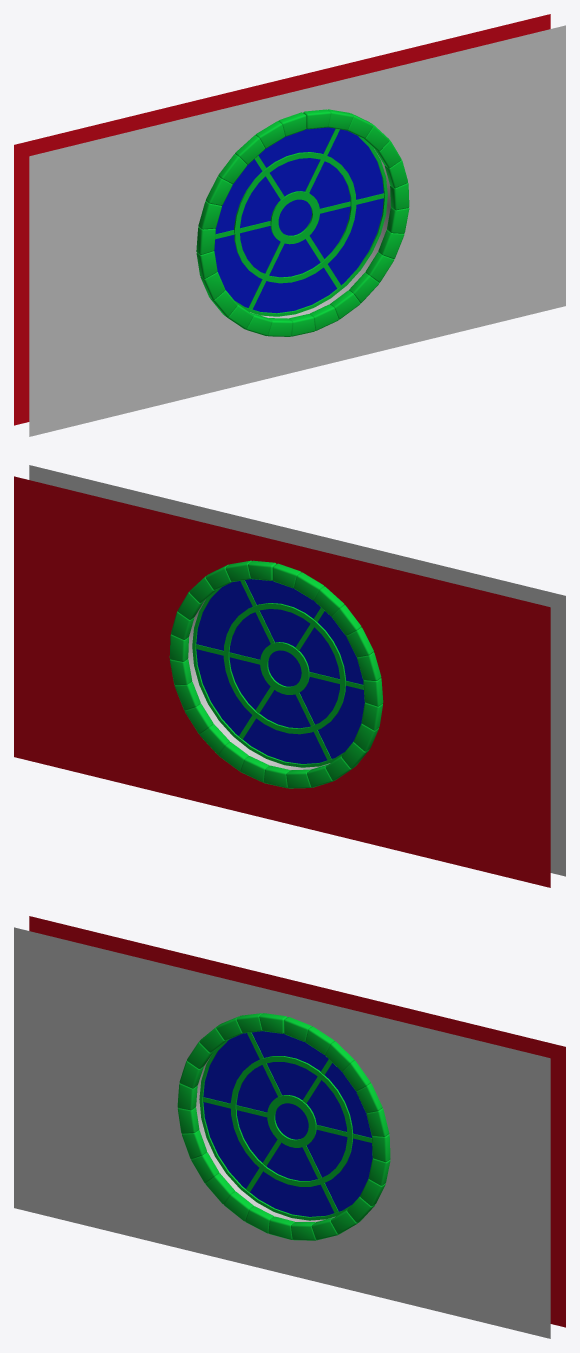
File: Round_window.fbx
The picture shows the model from 3 angles, top to bottom: view 1: azimuth 30°, elevation 25°; view 2: azimuth 150°, elevation 25°; view 3: azimuth 330°, elevation 25°; orthographic projection.
Parts seen in each view (by area): view 1: Round_window, Round_window.001; view 2: Round_window, Round_window.001; view 3: Round_window, Round_window.001.
Part boxes in pixels (x1,y1,x2,y2): Round_window: (14, 14, 565, 436); Round_window.001: (214, 127, 383, 313); Round_window: (14, 465, 565, 887); Round_window.001: (196, 579, 364, 763); Round_window: (14, 916, 565, 1338); Round_window.001: (203, 1031, 372, 1216).
Size of the model in its own units: 1000 by 500 by 79.03.
